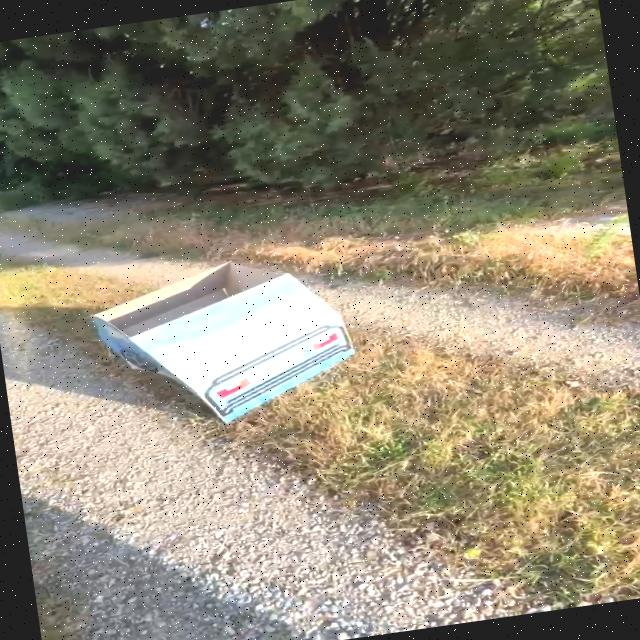blue_car: (65, 226, 405, 480)
